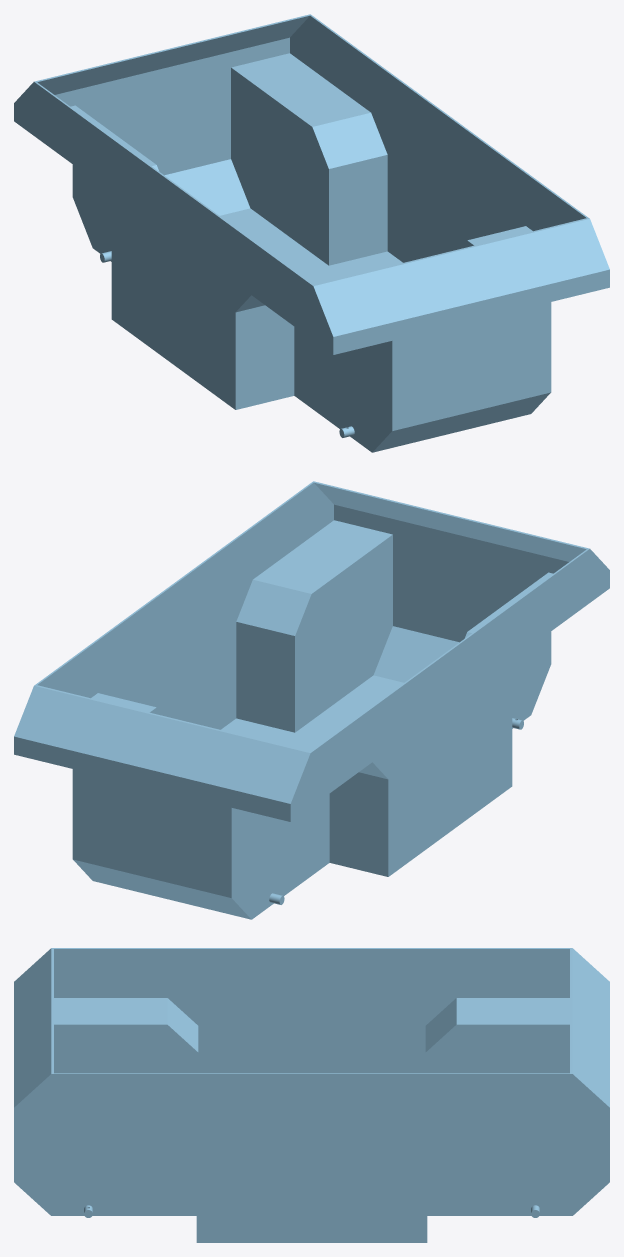
File: chassis.dae
The picture shows the model from 3 angles, top to bottom: view 1: azimuth 30°, elevation 25°; view 2: azimuth 150°, elevation 25°; view 3: azimuth 270°, elevation 25°; orthographic projection. The views are drawn at different scales.
Parts seen in each view (by area): view 1: ID2; view 2: ID2; view 3: ID2.
Boxes of the visible parts, bbox=[...] form: ID2: bbox=[14, 14, 609, 452]; ID2: bbox=[14, 481, 609, 919]; ID2: bbox=[14, 948, 609, 1242].
Size of the model in its own units: 0.4 by 0.8 by 0.25.
